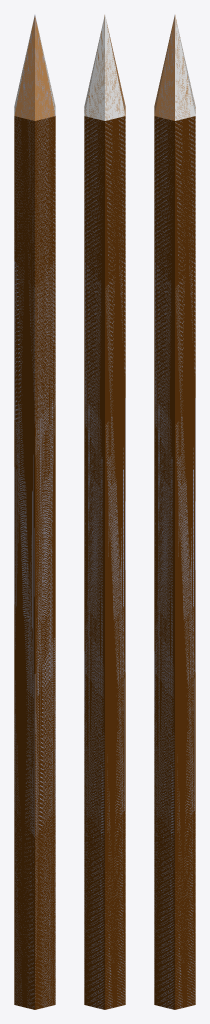
Rendered from tribal_spear.dae.
3 views of the same model, side by side, from view 1: azimuth 30°, elevation 25°; view 2: azimuth 150°, elevation 25°; view 3: azimuth 330°, elevation 25° (orthographic).
Visible parts, largest first — view 1: SketchUp (×2); view 2: SketchUp (×2); view 3: SketchUp (×2).
Part boxes in pixels (x1=…): SketchUp (×2): x1=14, y1=15, x2=55, y2=1009; SketchUp (×2): x1=84, y1=15, x2=125, y2=1009; SketchUp (×2): x1=154, y1=15, x2=195, y2=1009.
Size of the model in its own units: 1.21 by 1.05 by 27.78.
